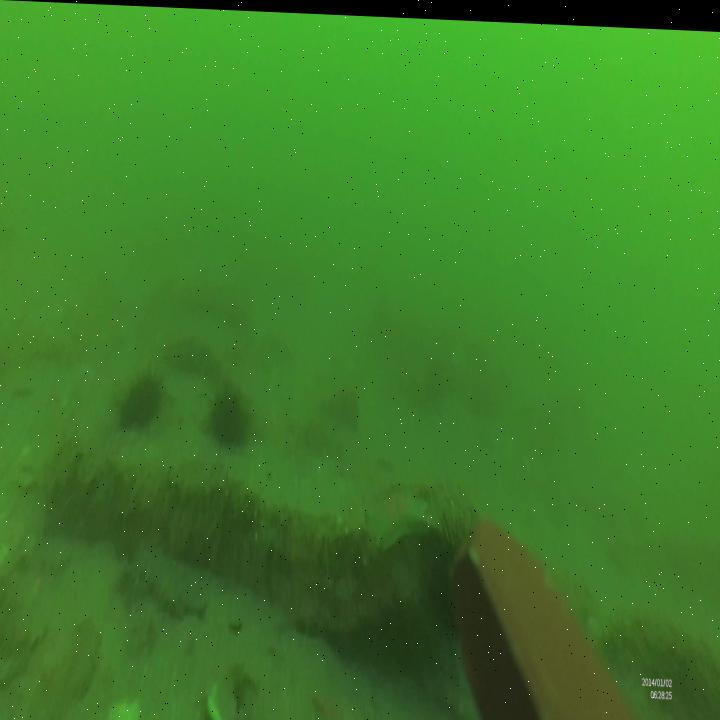echinus: (432, 502, 476, 633), (116, 365, 164, 431), (209, 378, 247, 447)
